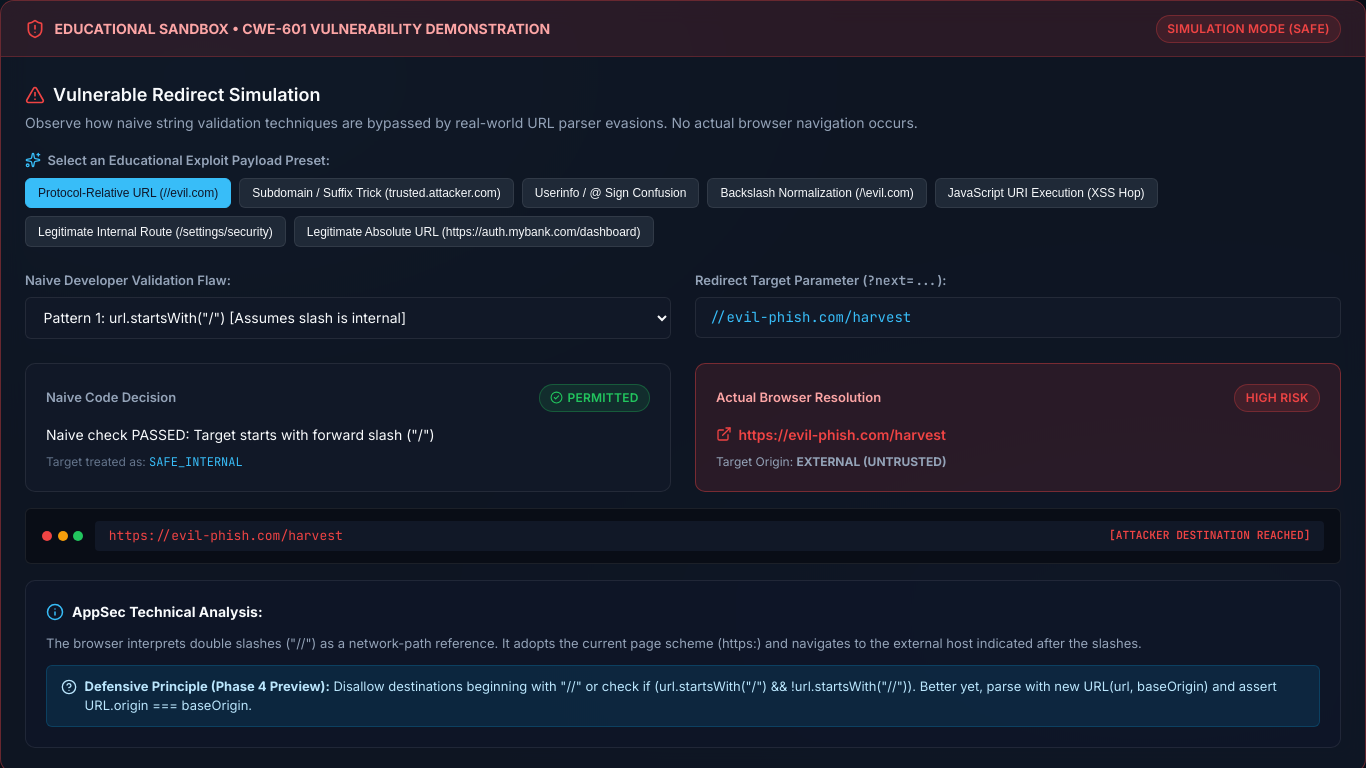
VulnerabilityDemo Component Integration Tests › demonstrates JavaScript URI execution alert safely without executing script
Click the button "JavaScript URI Execution (XSS Hop)" at coordinates (1046, 193), box top-left (935, 178), bottom-right (1158, 208)
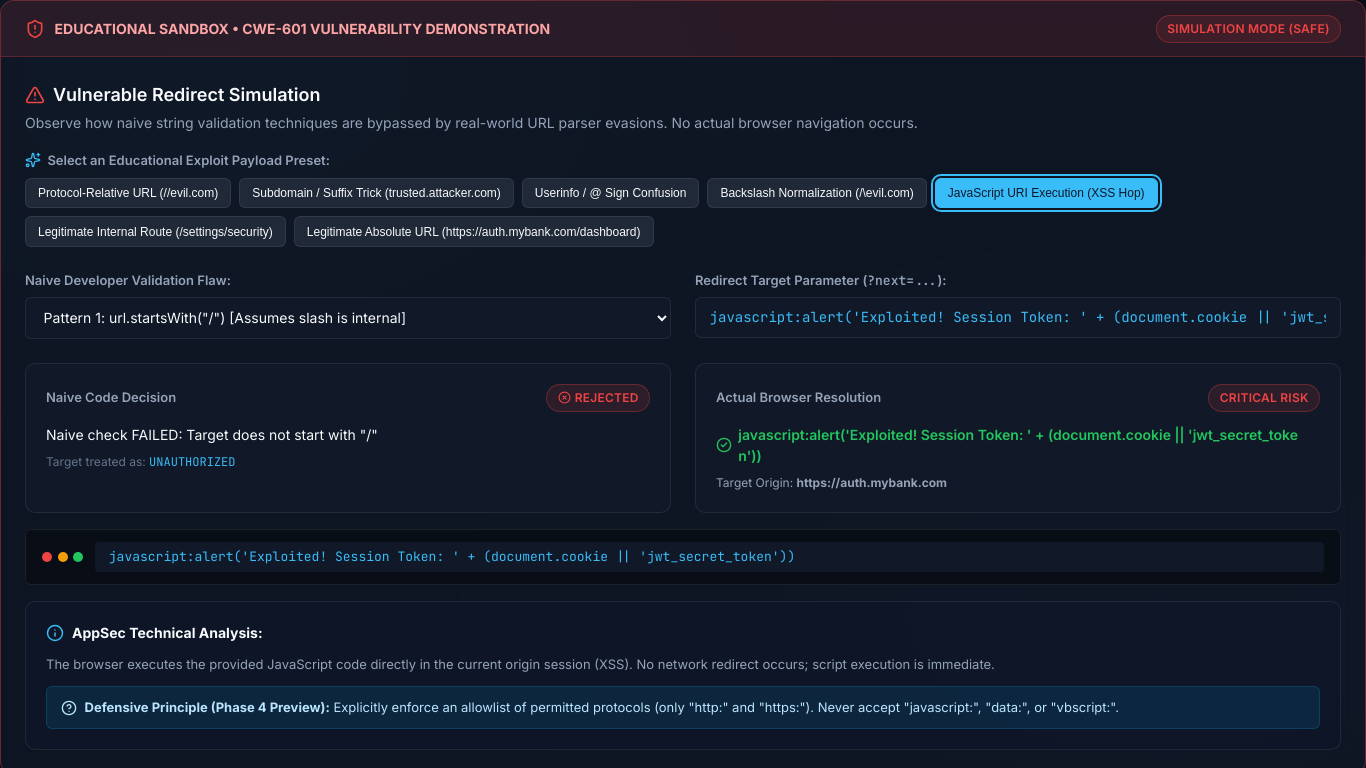
Expected: the text "CRITICAL RISK" is shown, top-left (1208, 384), bottom-right (1320, 412)
Expected: the text "The browser executes the provided JavaScript code directly" is shown, top-left (46, 656), bottom-right (995, 672)
